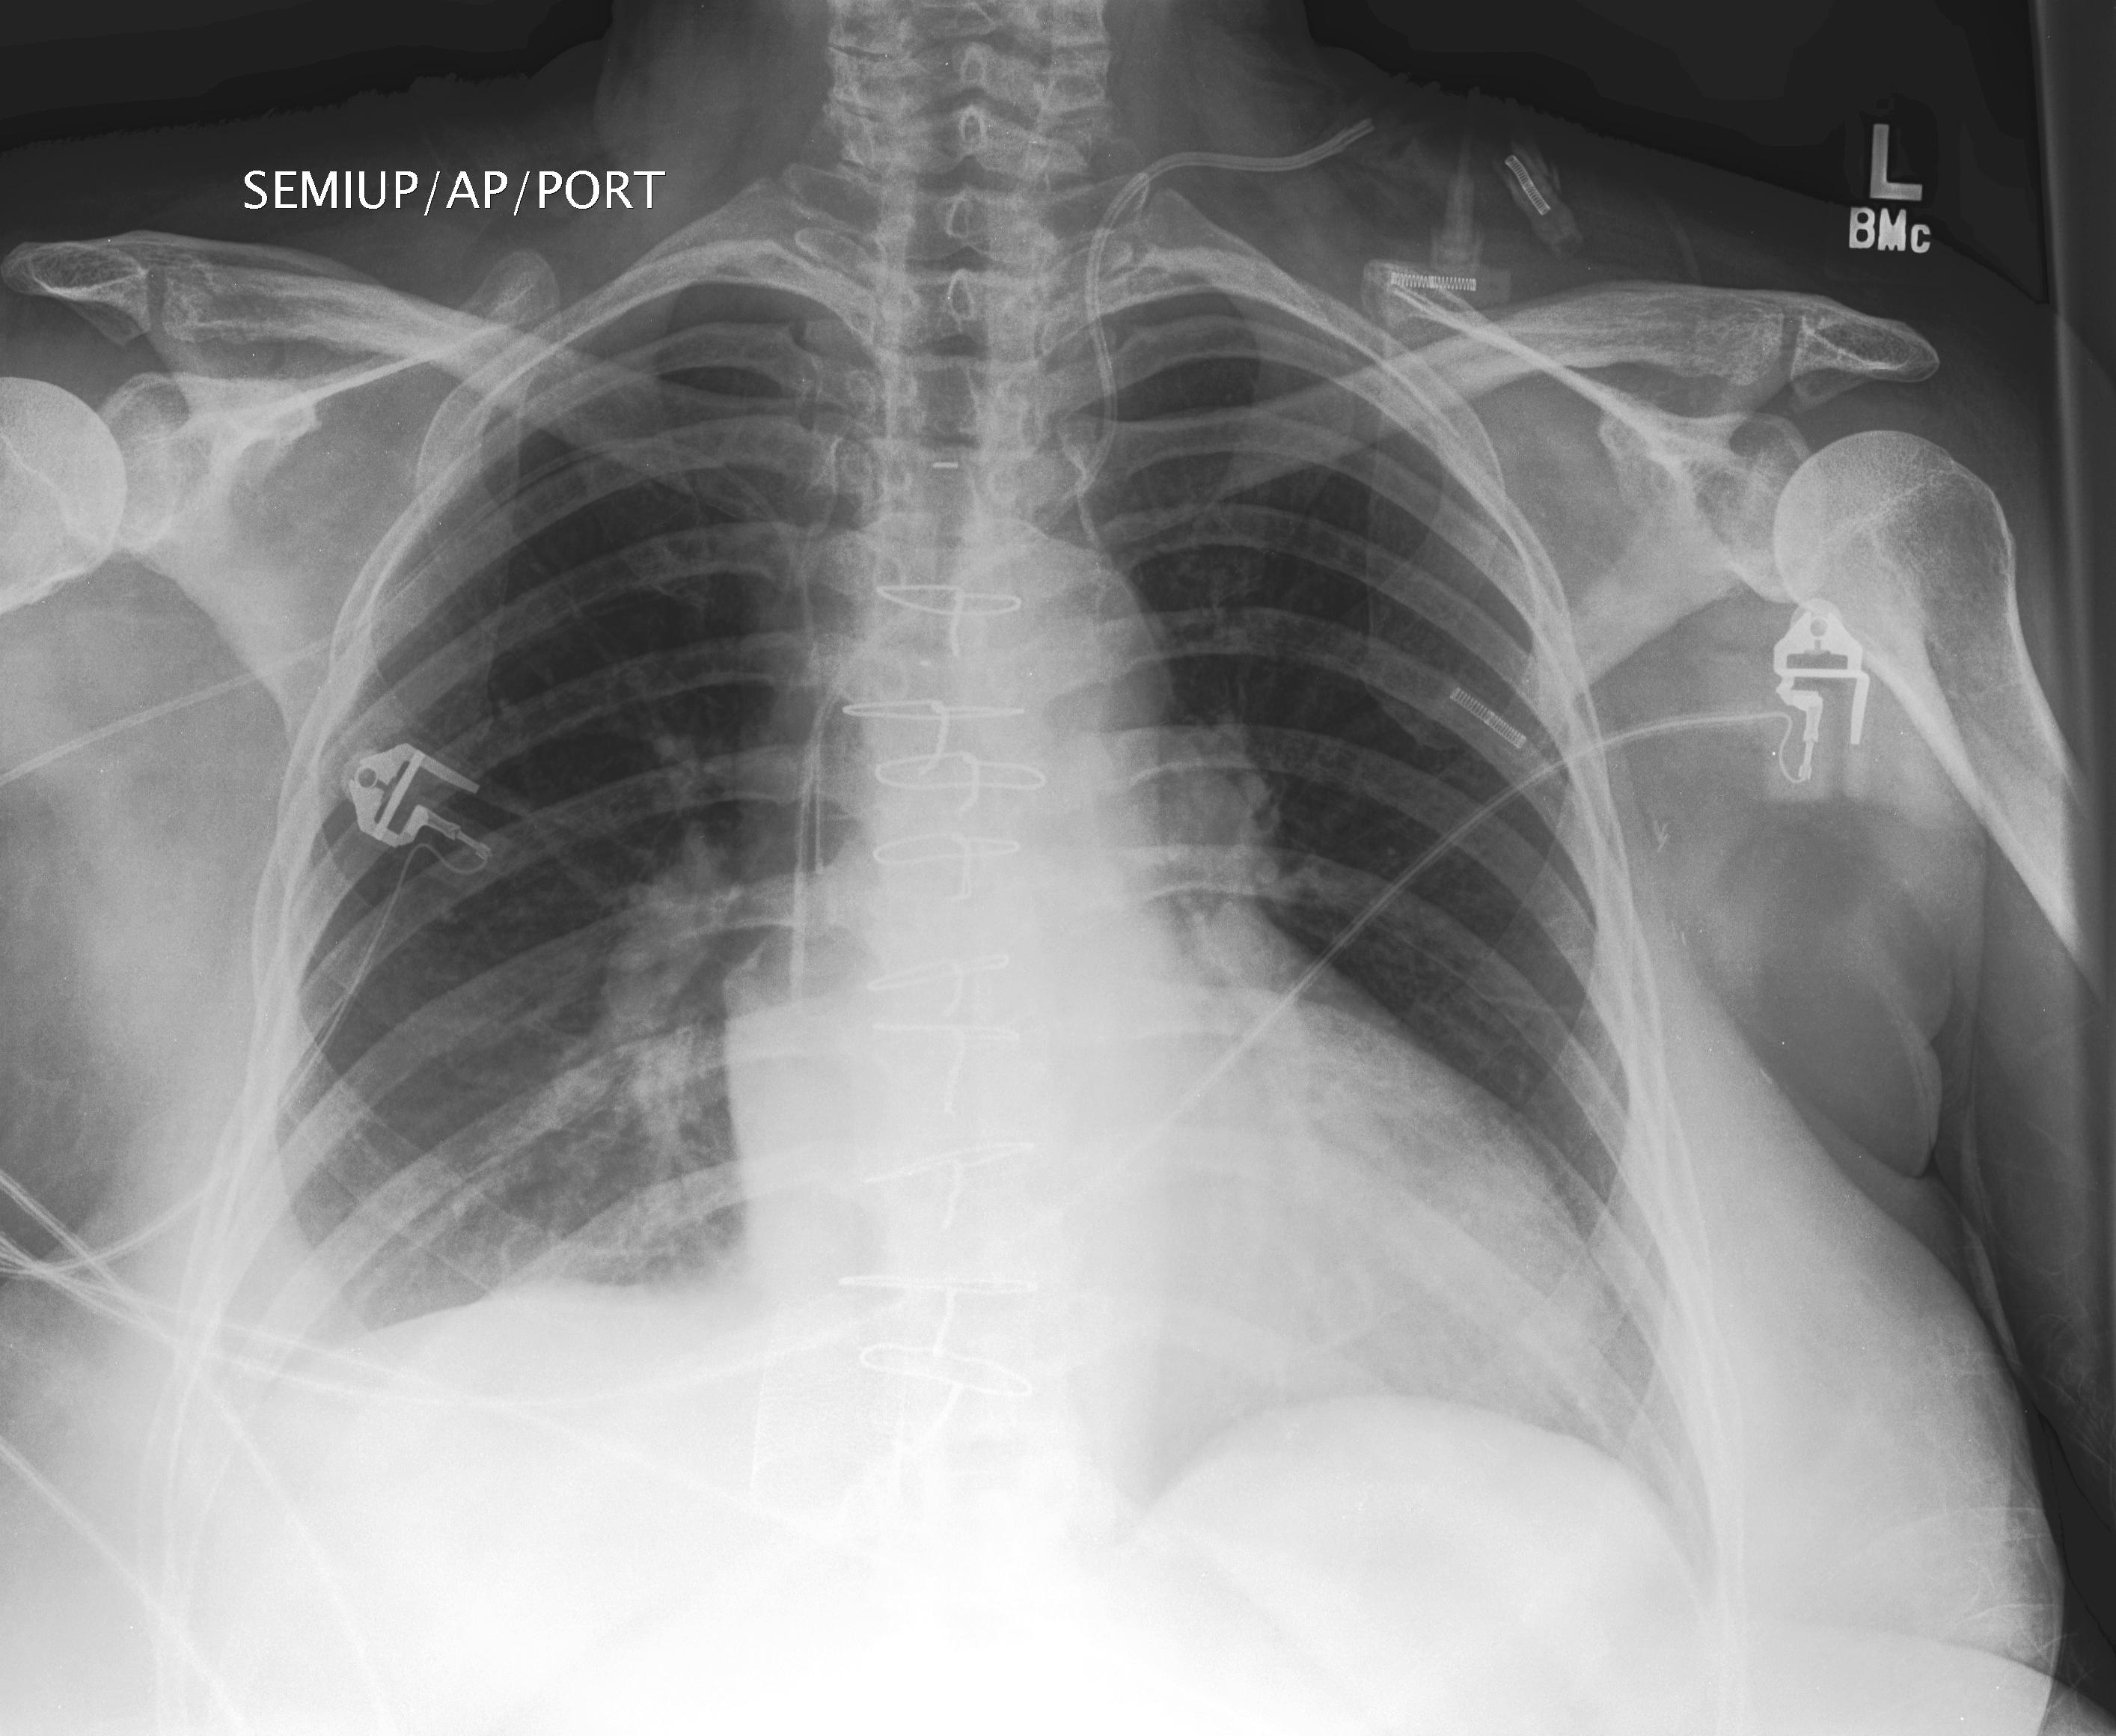Pleural Effusion: (141, 1265, 615, 1564)
